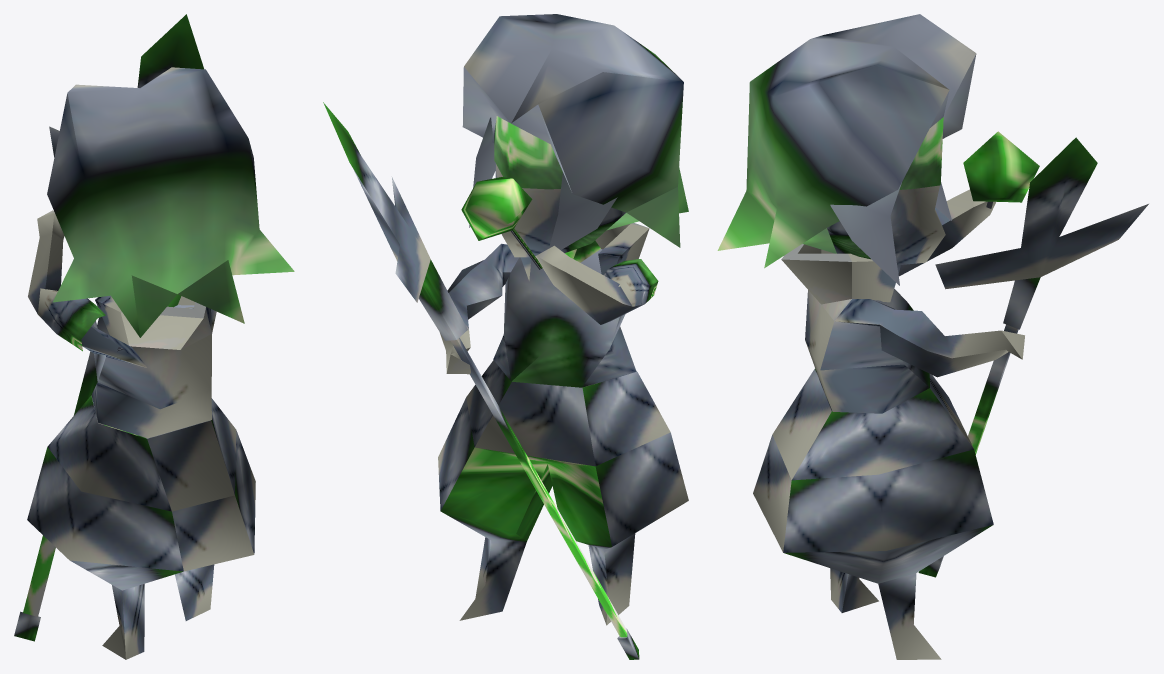
Rendered from icon.ico.obj.
3 views of the same model, side by side, from view 1: azimuth 30°, elevation 25°; view 2: azimuth 150°, elevation 25°; view 3: azimuth 270°, elevation 25° (orthographic). The views are drawn at different scales.
Size of the model in its own units: 1.77 by 3.96 by 2.62.
